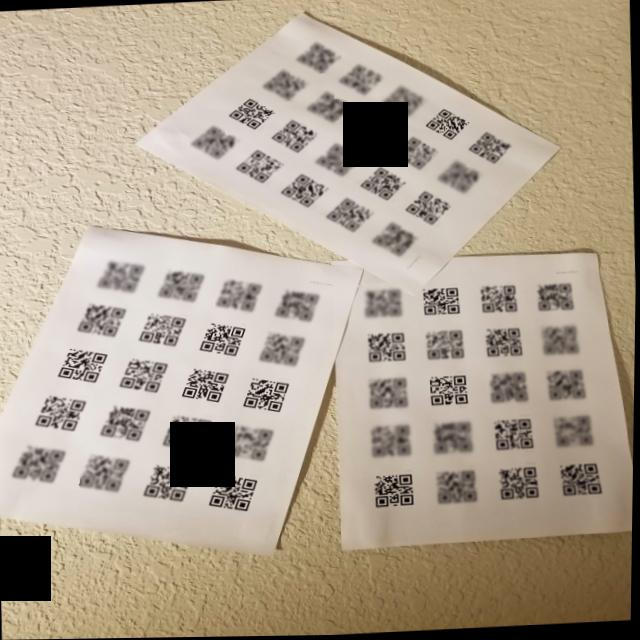QR_CODE: (6, 438, 74, 487), (205, 469, 266, 523), (25, 390, 95, 437), (360, 373, 425, 420), (80, 449, 139, 499), (159, 409, 222, 455), (142, 461, 202, 509), (222, 420, 283, 467), (90, 253, 151, 300), (96, 399, 158, 444), (429, 465, 489, 511), (53, 343, 114, 388), (73, 298, 135, 342), (554, 458, 614, 503), (115, 355, 179, 397), (237, 375, 298, 419), (194, 319, 256, 362), (155, 263, 211, 309), (254, 329, 314, 371), (491, 413, 546, 458), (214, 272, 269, 317), (137, 309, 197, 350), (366, 422, 419, 468), (477, 322, 535, 364), (179, 364, 237, 406), (493, 463, 548, 507), (273, 284, 328, 328), (369, 219, 425, 262), (368, 471, 421, 516), (547, 411, 601, 455), (542, 364, 598, 406), (402, 188, 458, 230), (433, 158, 489, 200), (424, 370, 477, 414), (276, 172, 334, 212), (485, 366, 540, 408), (189, 122, 243, 164), (233, 147, 288, 188), (355, 164, 410, 205), (417, 278, 468, 322), (323, 196, 379, 236), (429, 418, 482, 460), (312, 140, 365, 182), (357, 328, 410, 369), (223, 95, 277, 135), (422, 104, 473, 146), (346, 111, 398, 152), (254, 67, 313, 103), (421, 325, 470, 368), (269, 118, 321, 158), (358, 283, 409, 323), (299, 89, 352, 127), (536, 323, 586, 363), (475, 279, 526, 318), (391, 134, 442, 173), (466, 130, 517, 169), (530, 280, 582, 318), (333, 62, 386, 99), (289, 39, 342, 76), (379, 83, 429, 122)
